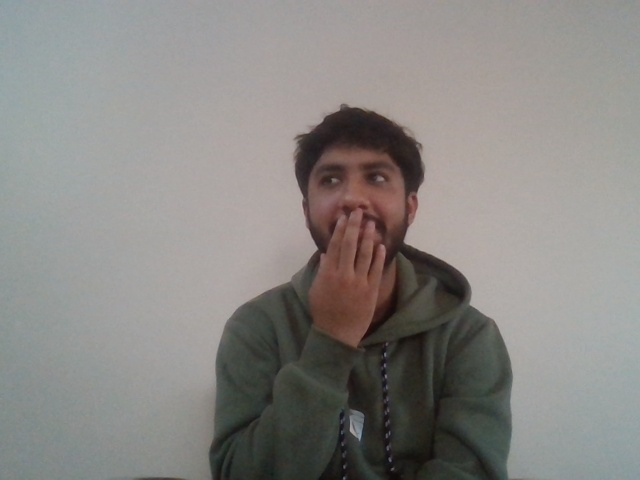Thanks: (305, 207, 408, 321)
